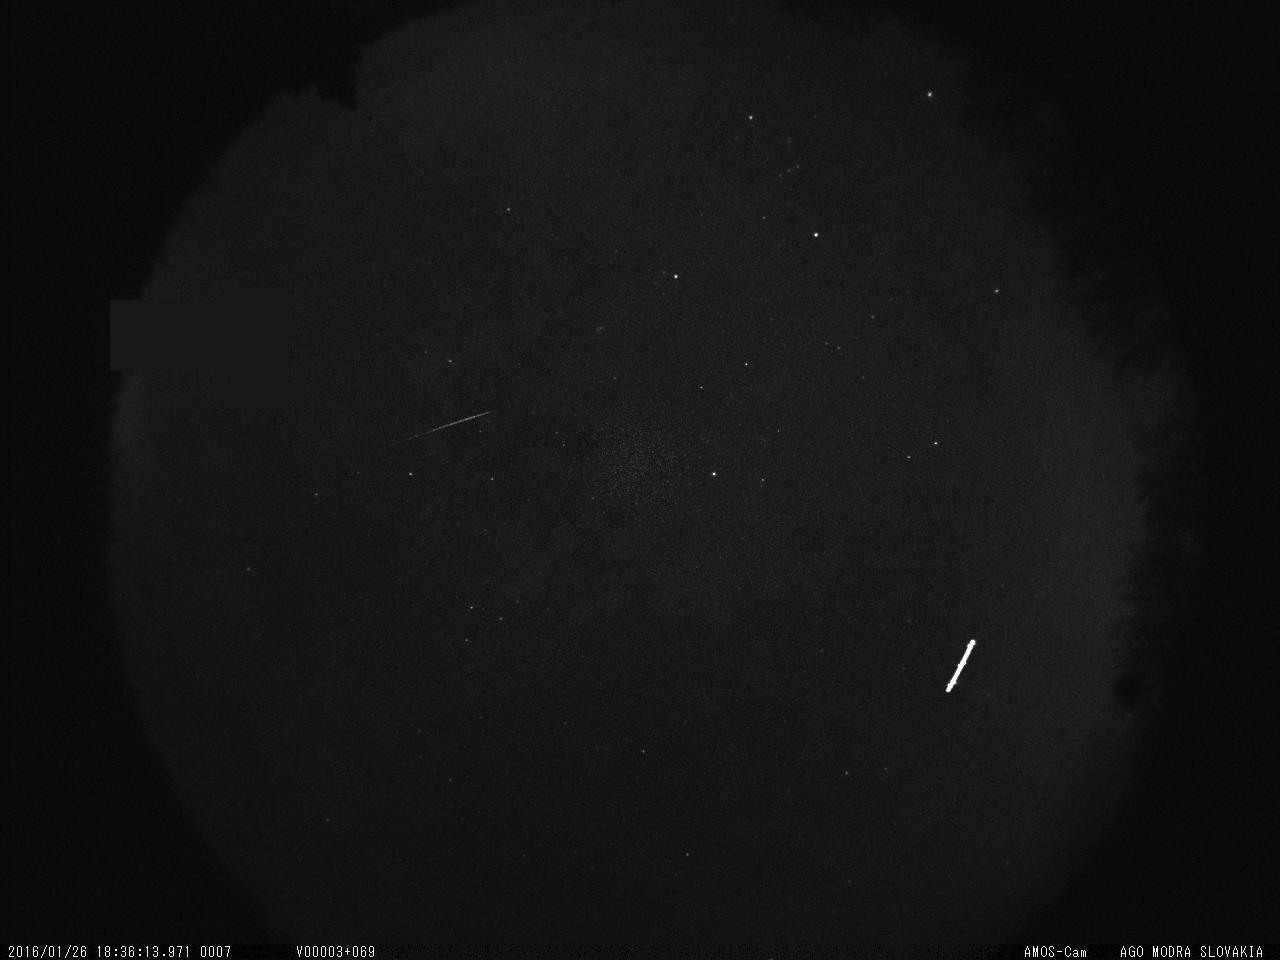meteor: (393, 398, 503, 449)
satelite: (938, 628, 986, 703)
